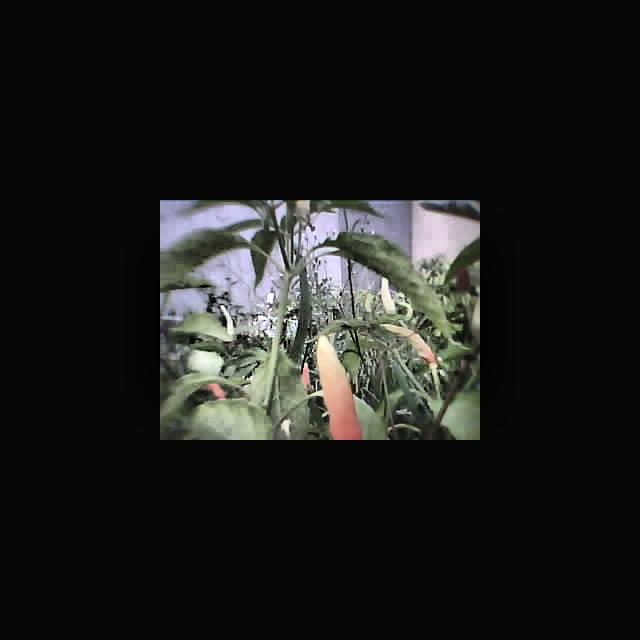Cabai: (301, 336, 364, 440)
